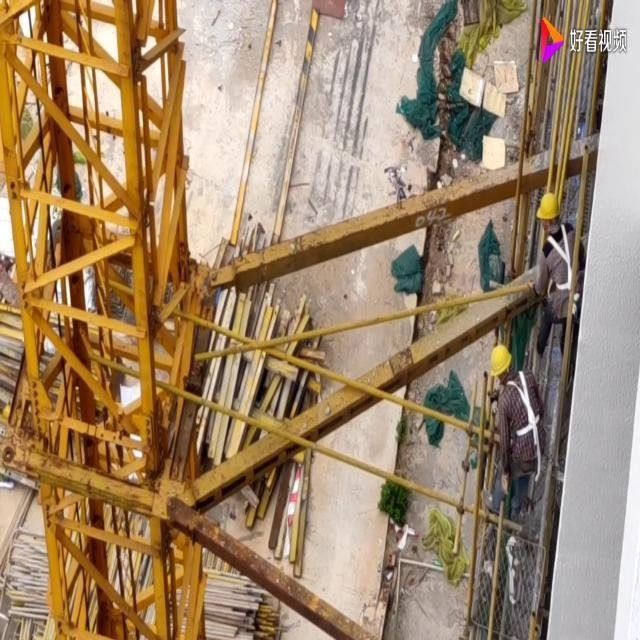Arnes_seguridad: (503, 368, 541, 440), (544, 220, 575, 294)
